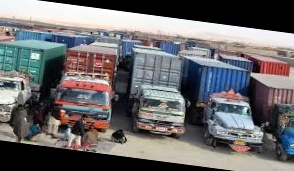truck: (173, 54, 273, 152), (0, 33, 68, 133), (48, 40, 120, 132), (123, 48, 192, 138), (241, 72, 294, 167)
